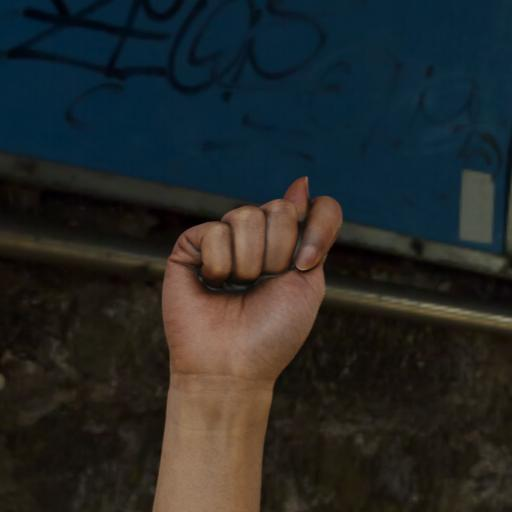T: (130, 140, 364, 386)
